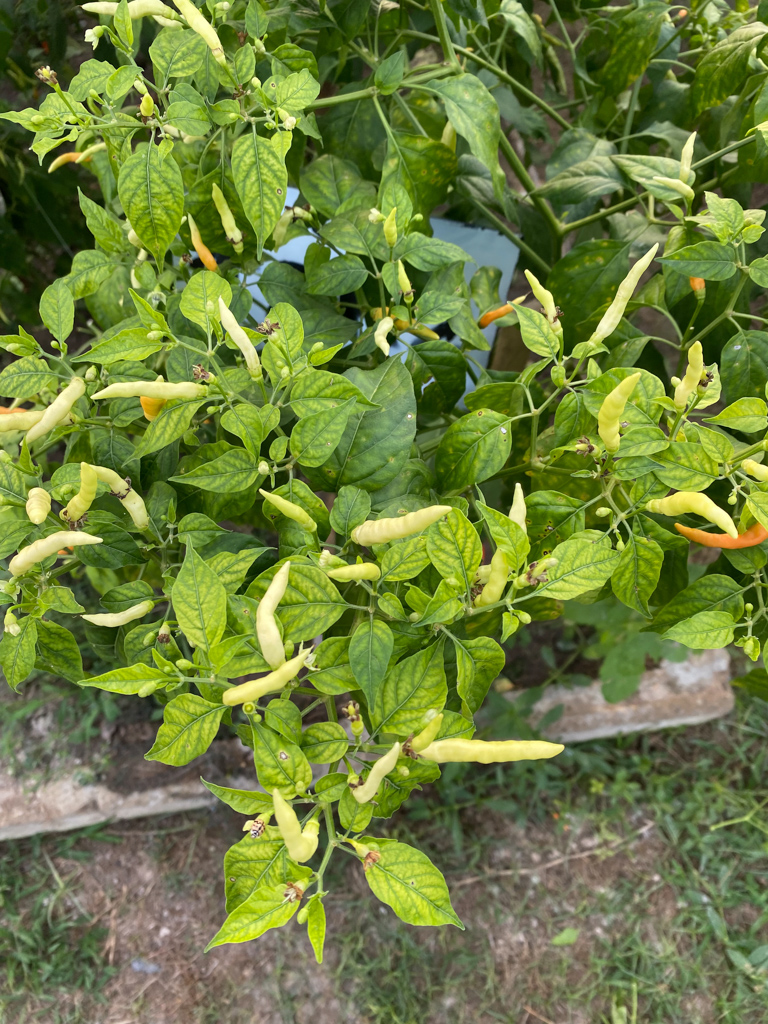frog-eye leafspot: (538, 516, 560, 539), (274, 749, 294, 764), (238, 603, 251, 618), (498, 423, 507, 444), (406, 877, 417, 892), (272, 185, 283, 199), (618, 421, 632, 431), (475, 409, 485, 419), (539, 549, 550, 556)
